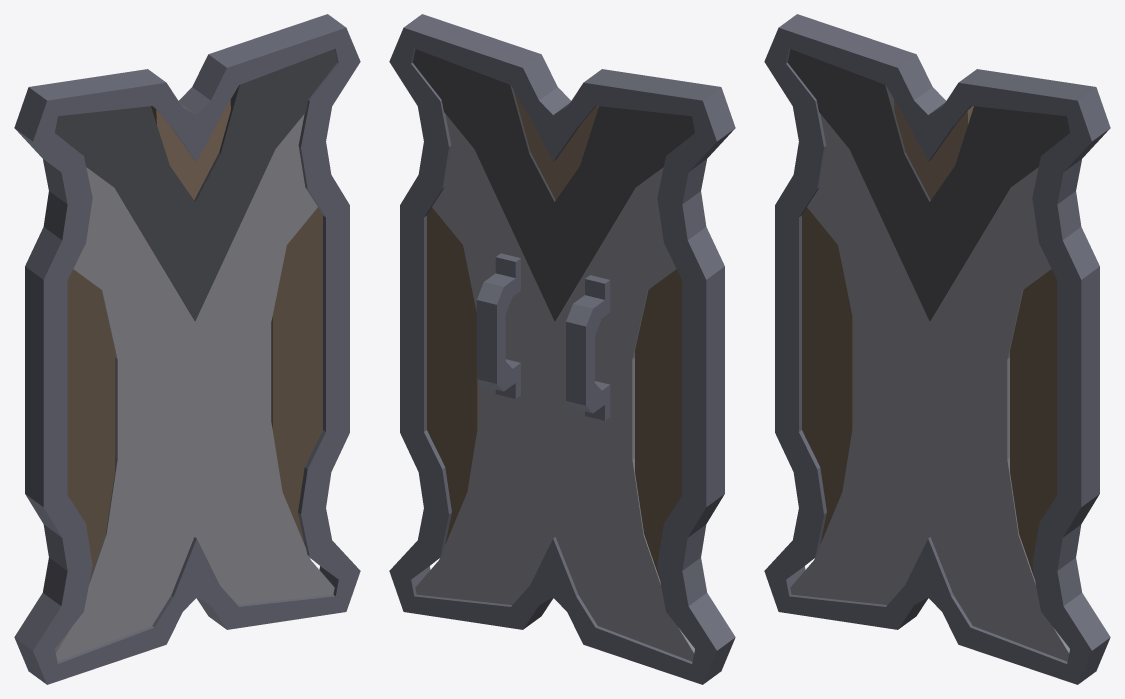
The model's file is _Shield_12.fbx.
3 views of the same model, side by side, from view 1: azimuth 30°, elevation 25°; view 2: azimuth 150°, elevation 25°; view 3: azimuth 330°, elevation 25° (orthographic).
Parts seen in each view (by area): view 1: Shield_12; view 2: Shield_12; view 3: Shield_12.
Part boxes in pixels (x1,y1,x2,y2): Shield_12: [14, 14, 360, 684]; Shield_12: [389, 14, 735, 684]; Shield_12: [764, 14, 1110, 684].
Size of the model in its own units: 59.14 by 101 by 12.67.
